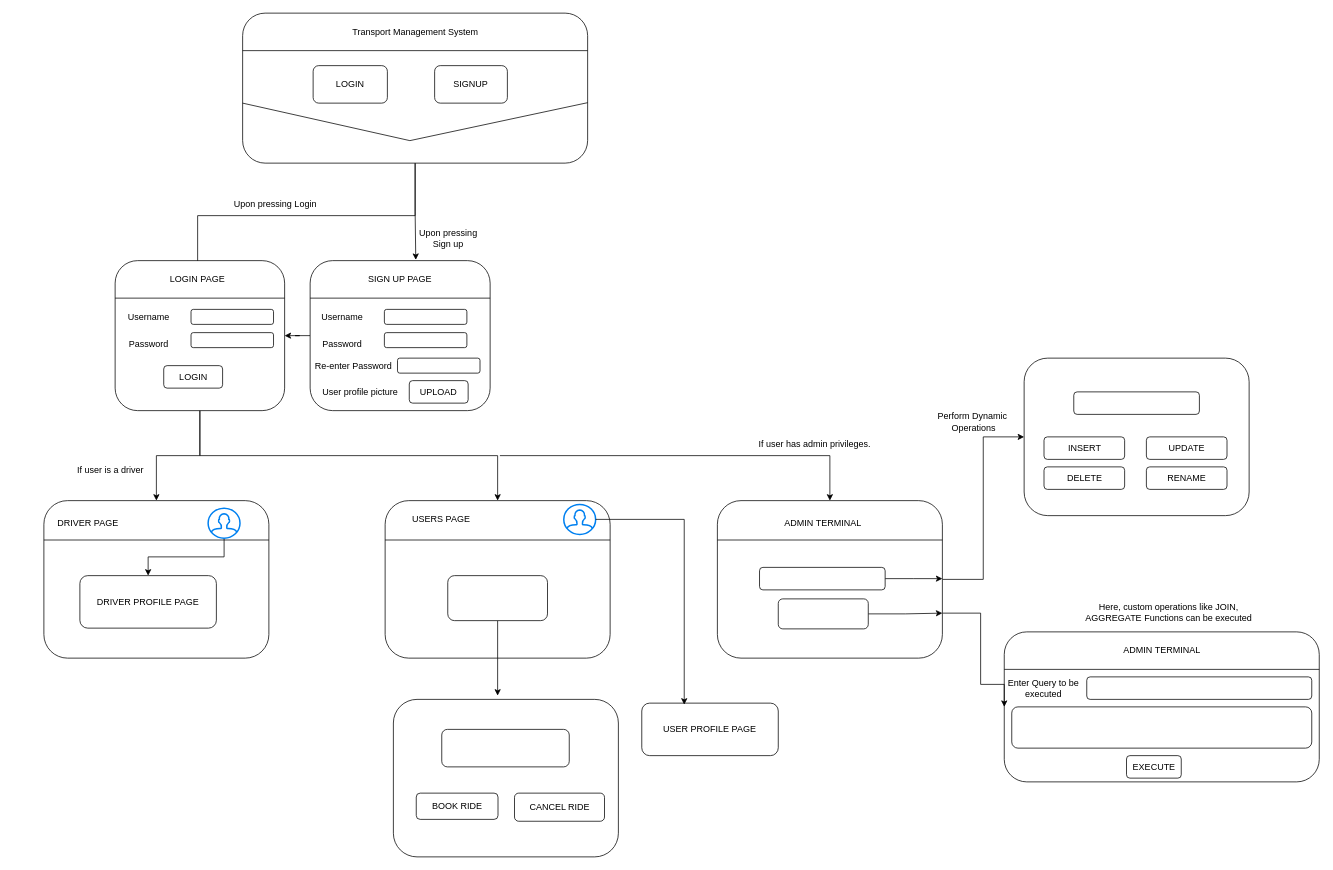
This 1333x870 diagram has some shape labels left out. Here are the shapes that lost their labels. From the top down, the box of each, then its label:
(1073, 391, 1199, 414): VIEW TABLES
(447, 575, 548, 621): AVAILABLE RIDES
(759, 567, 885, 590): EDIT DATABASE
(778, 598, 868, 629): WRITE CUSTOM QUERY
(1011, 706, 1312, 748): Output
(441, 729, 569, 767): SEAT SELECTION UI
